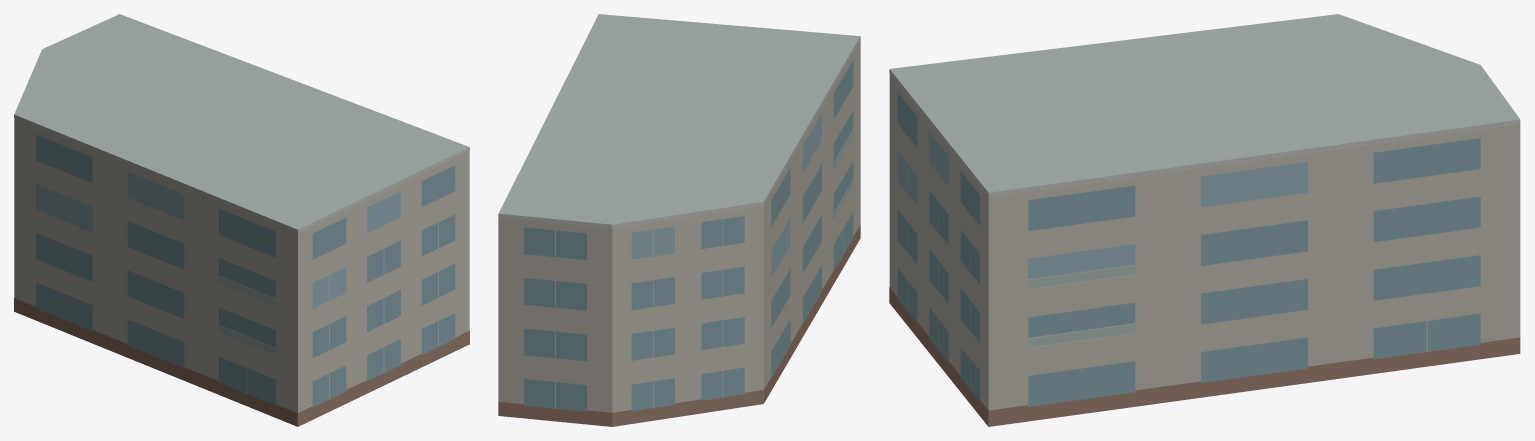
Rendered from survey-upis-32839639.glb.
3 views of the same model, side by side, from view 1: azimuth 30°, elevation 25°; view 2: azimuth 150°, elevation 25°; view 3: azimuth 270°, elevation 25° (orthographic). The views are drawn at different scales.
Parts seen in each view (by area): view 1: survey-upis-32839639.tmp; view 2: survey-upis-32839639.tmp; view 3: survey-upis-32839639.tmp.
Part boxes in pixels (box(x1,y1,x2,y2)): survey-upis-32839639.tmp: box(14, 14, 469, 426); survey-upis-32839639.tmp: box(498, 14, 860, 426); survey-upis-32839639.tmp: box(889, 14, 1520, 426).
Bounding box in the file's own units: 19.97 × 12.2 × 29.8.
